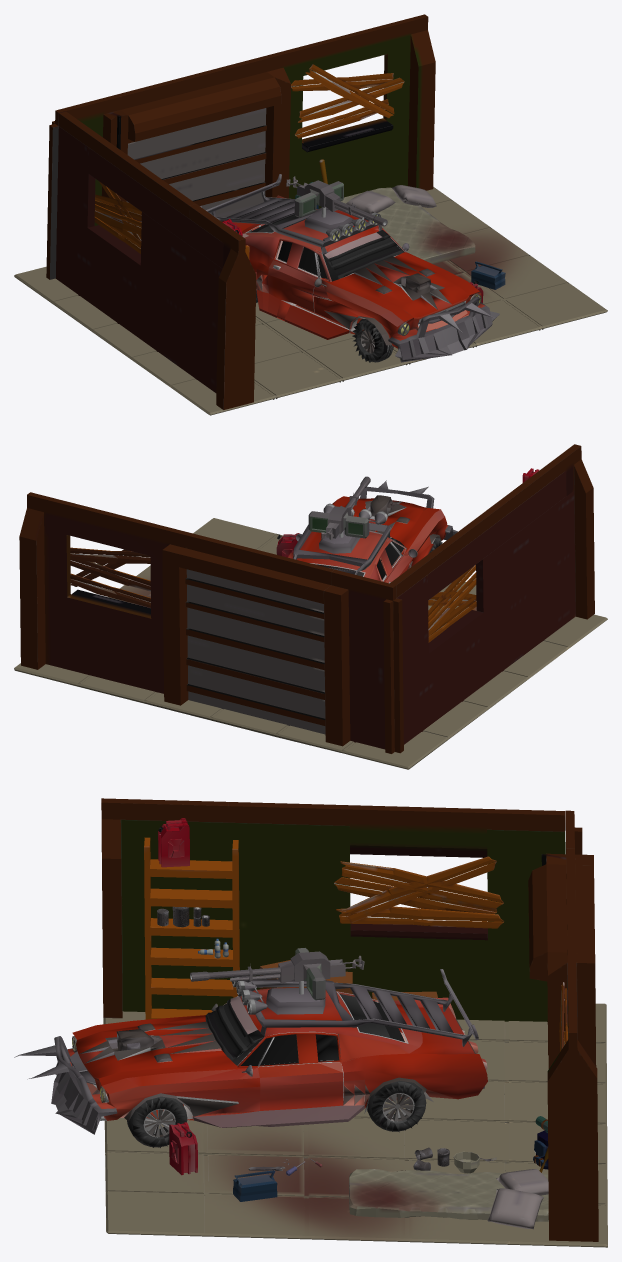
File: cubicle_survivors_garage (1).glb
3 views of the same model, one above another, from view 1: azimuth 30°, elevation 25°; view 2: azimuth 150°, elevation 25°; view 3: azimuth 270°, elevation 25° (orthographic). The views are drawn at different scales.
Parts seen in each view (by area): view 1: Cube_10; view 2: Cube_10; view 3: Cube_10.
Part boxes in pixels (box(x1,y1,x2,y2)): Cube_10: box(14, 14, 607, 415); Cube_10: box(14, 444, 607, 769); Cube_10: box(14, 798, 607, 1247).
Bounding box in the file's own units: 26.8 × 11.26 × 26.97.
Materials: 1 (1 with a texture image).
